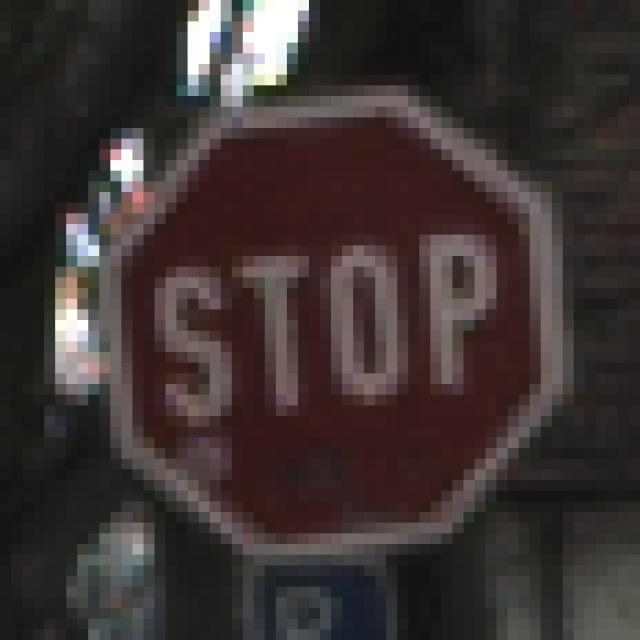STOP: (67, 54, 575, 577)
